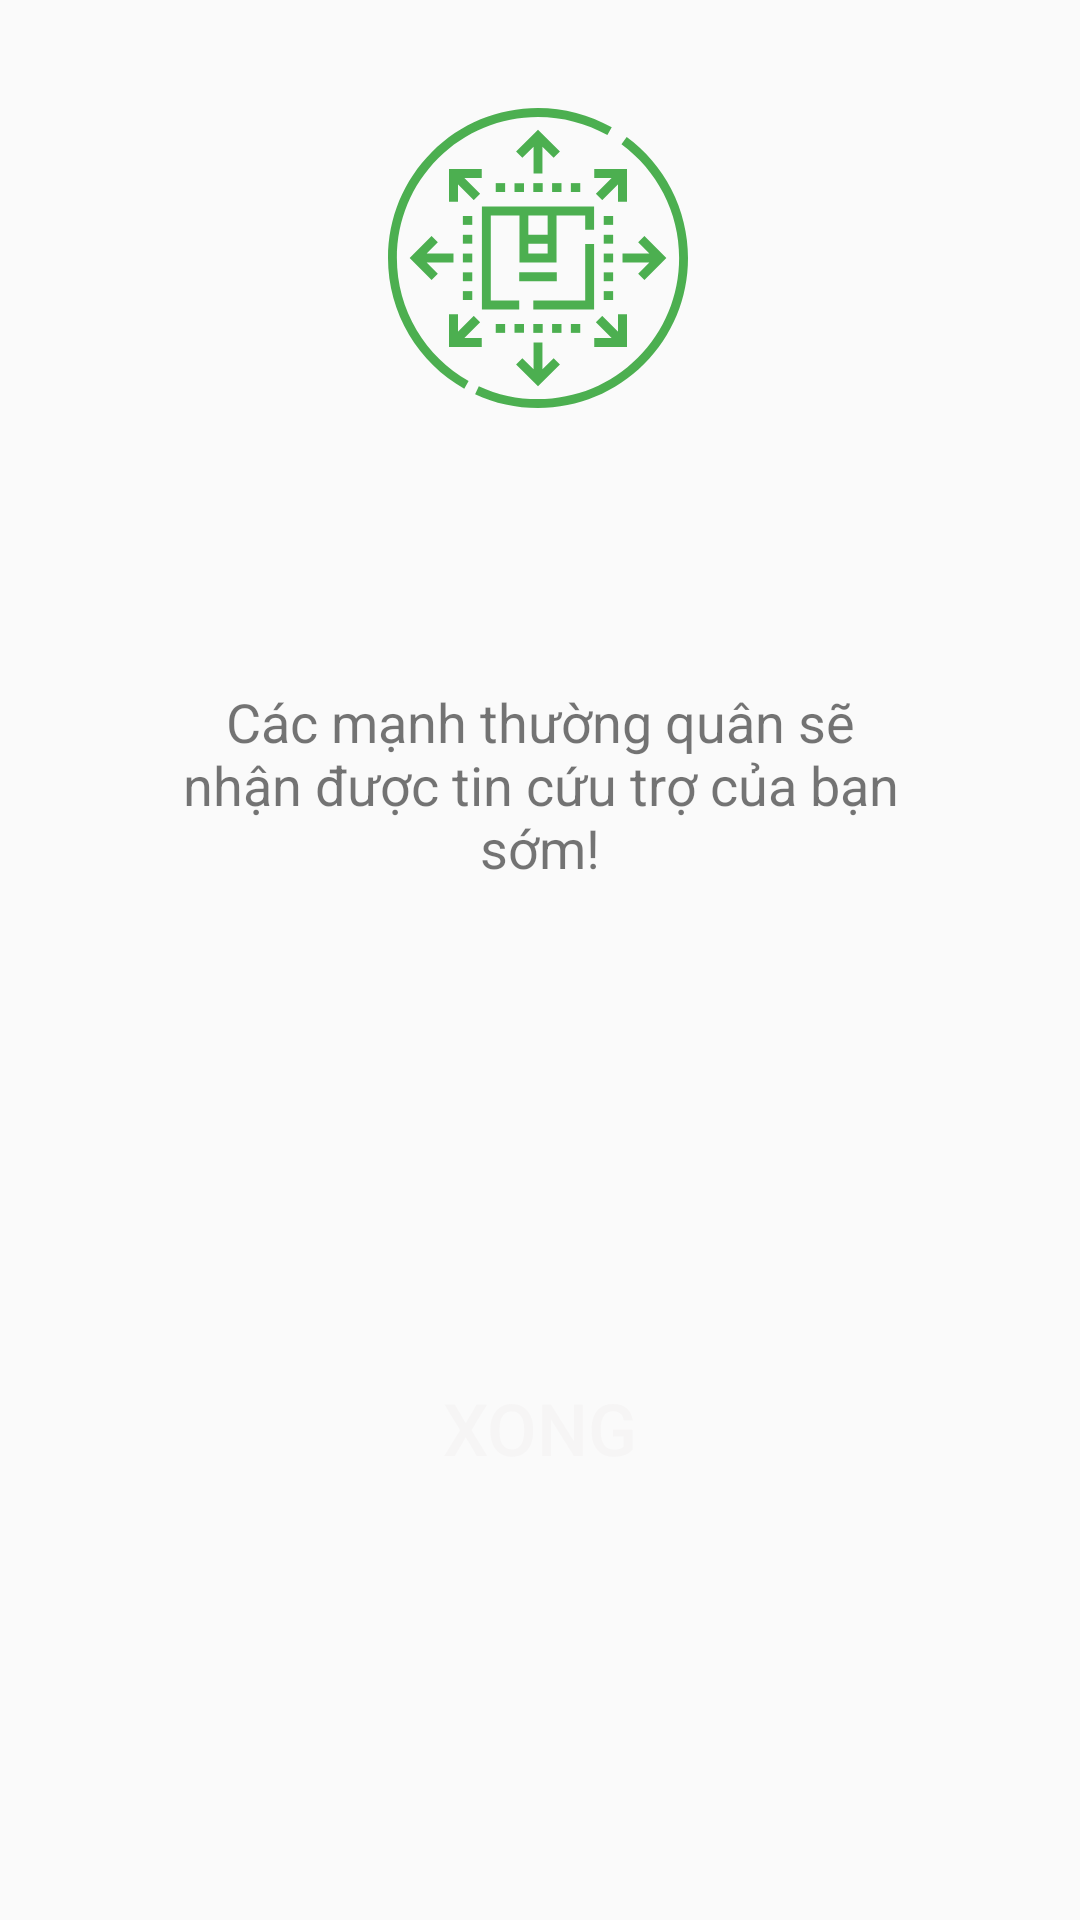

Icon bounding boxes for this 1080 x 1920 phone screenshot, format rect(x1, y1, x2, y2):
logistics: rect(388, 108, 688, 408)
